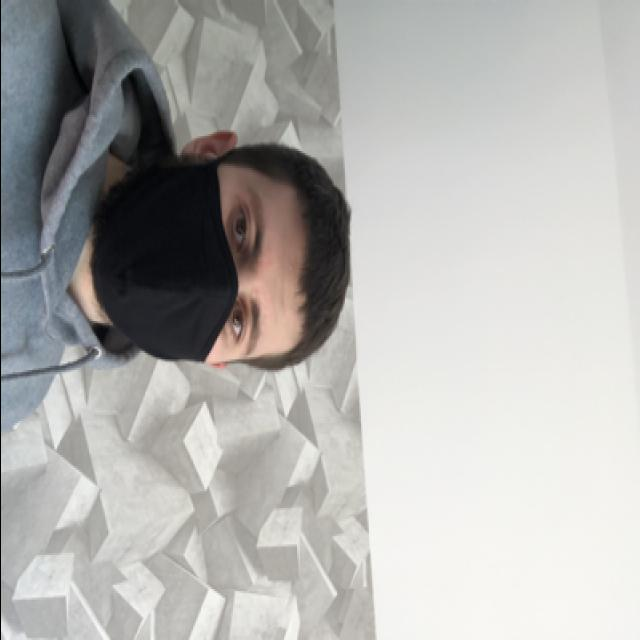mask: (88, 160, 283, 363)
